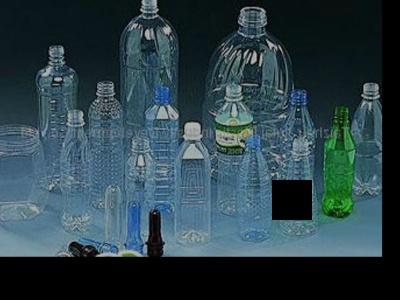bottle: (318, 104, 363, 228), (230, 134, 276, 244), (177, 113, 209, 245), (60, 106, 91, 233)
